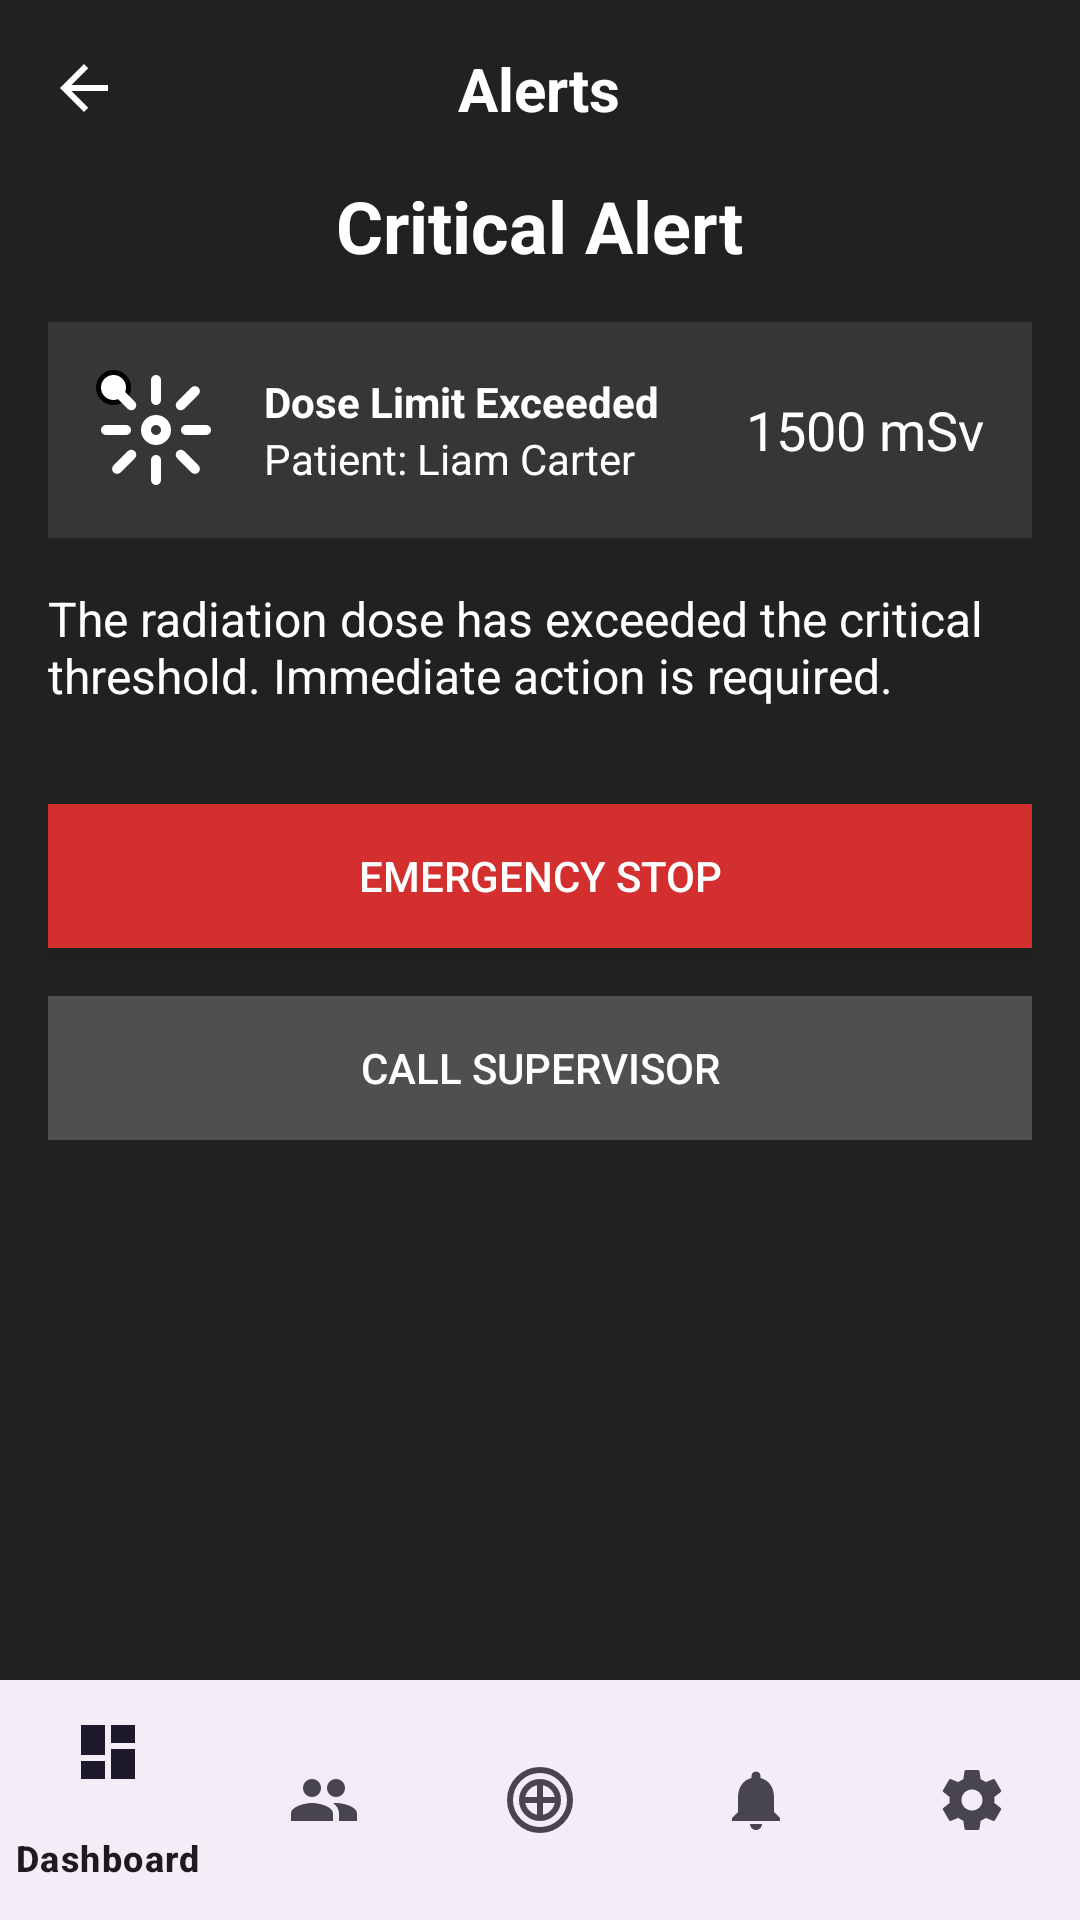

Named icons in this screenshot (1080px×1920px) and their centers, (x=x, y=y):
arrow back: (x=84, y=88)
